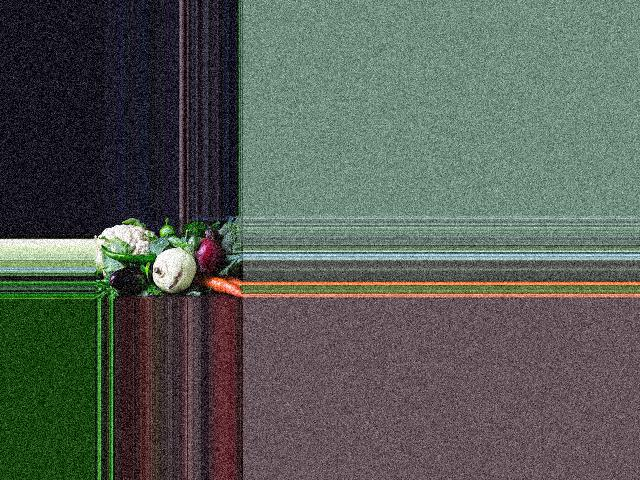carrot: (203, 270, 244, 299)
